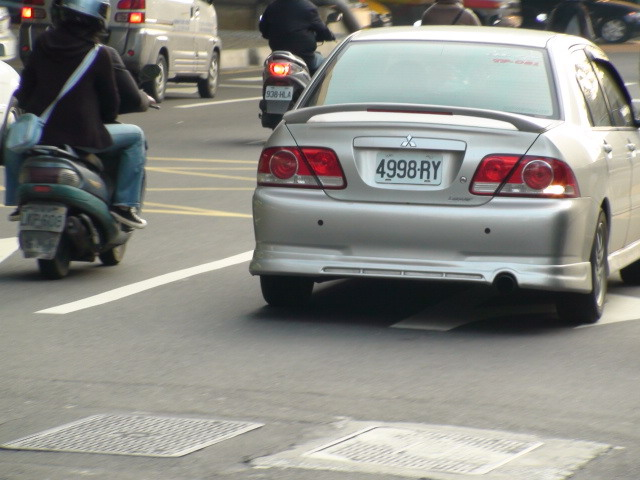plate: (375, 146, 444, 189), (16, 201, 68, 234), (264, 82, 296, 103)
